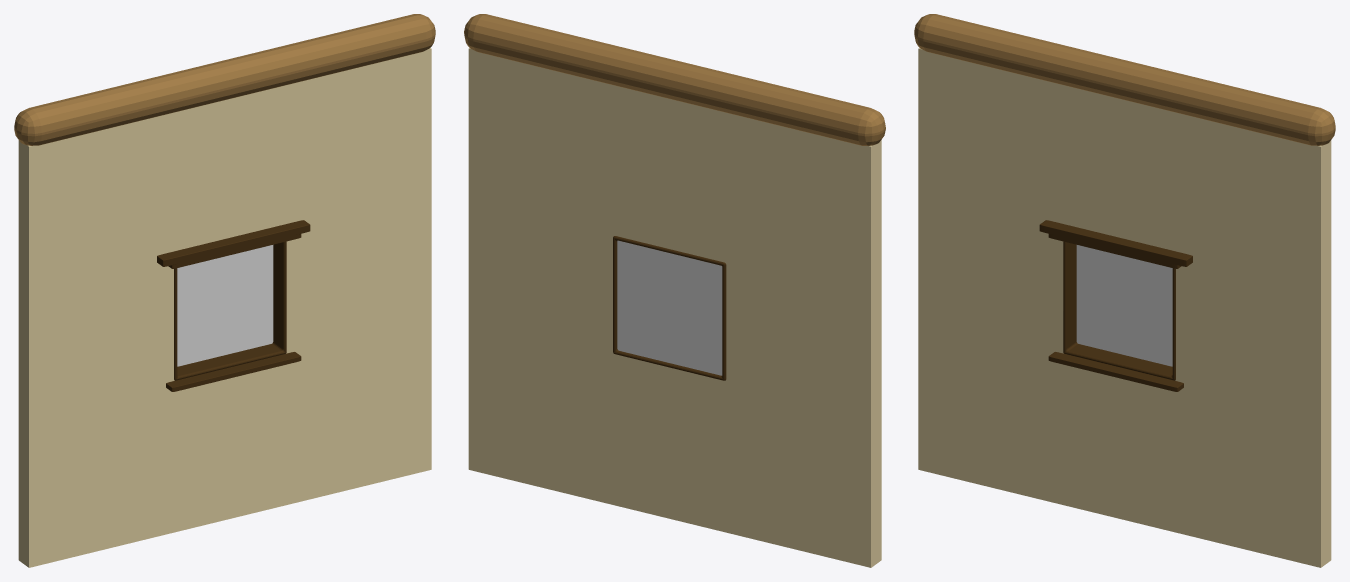
File: SingleWallwithouttBrick03.fbx
3 views of the same model, side by side, from view 1: azimuth 30°, elevation 25°; view 2: azimuth 150°, elevation 25°; view 3: azimuth 330°, elevation 25° (orthographic).
Parts seen in each view (by area): view 1: SingleWall-Window02.002; view 2: SingleWall-Window02.002; view 3: SingleWall-Window02.002.
Boxes of the visible parts, left/top/right/bottom form: SingleWall-Window02.002: left=14, top=14, right=435, bottom=567; SingleWall-Window02.002: left=464, top=14, right=885, bottom=567; SingleWall-Window02.002: left=914, top=14, right=1335, bottom=567.
Bounding box in the file's own units: 207 × 215 × 18.4.
